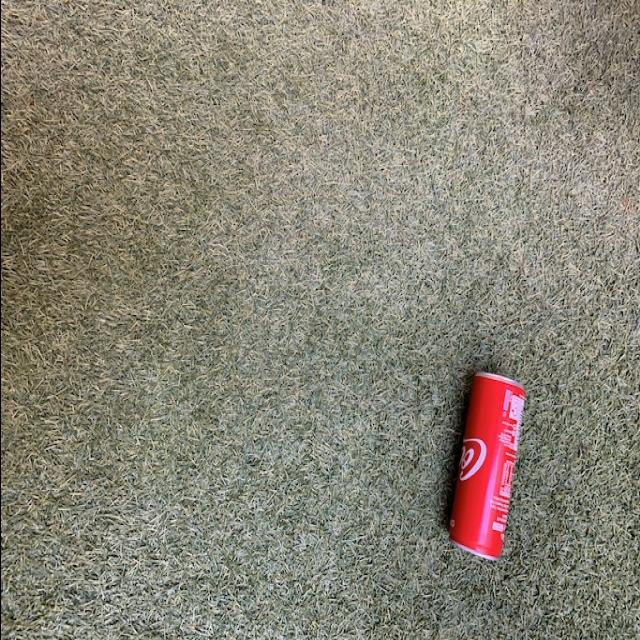Aluminum Can: (436, 356, 526, 580)
